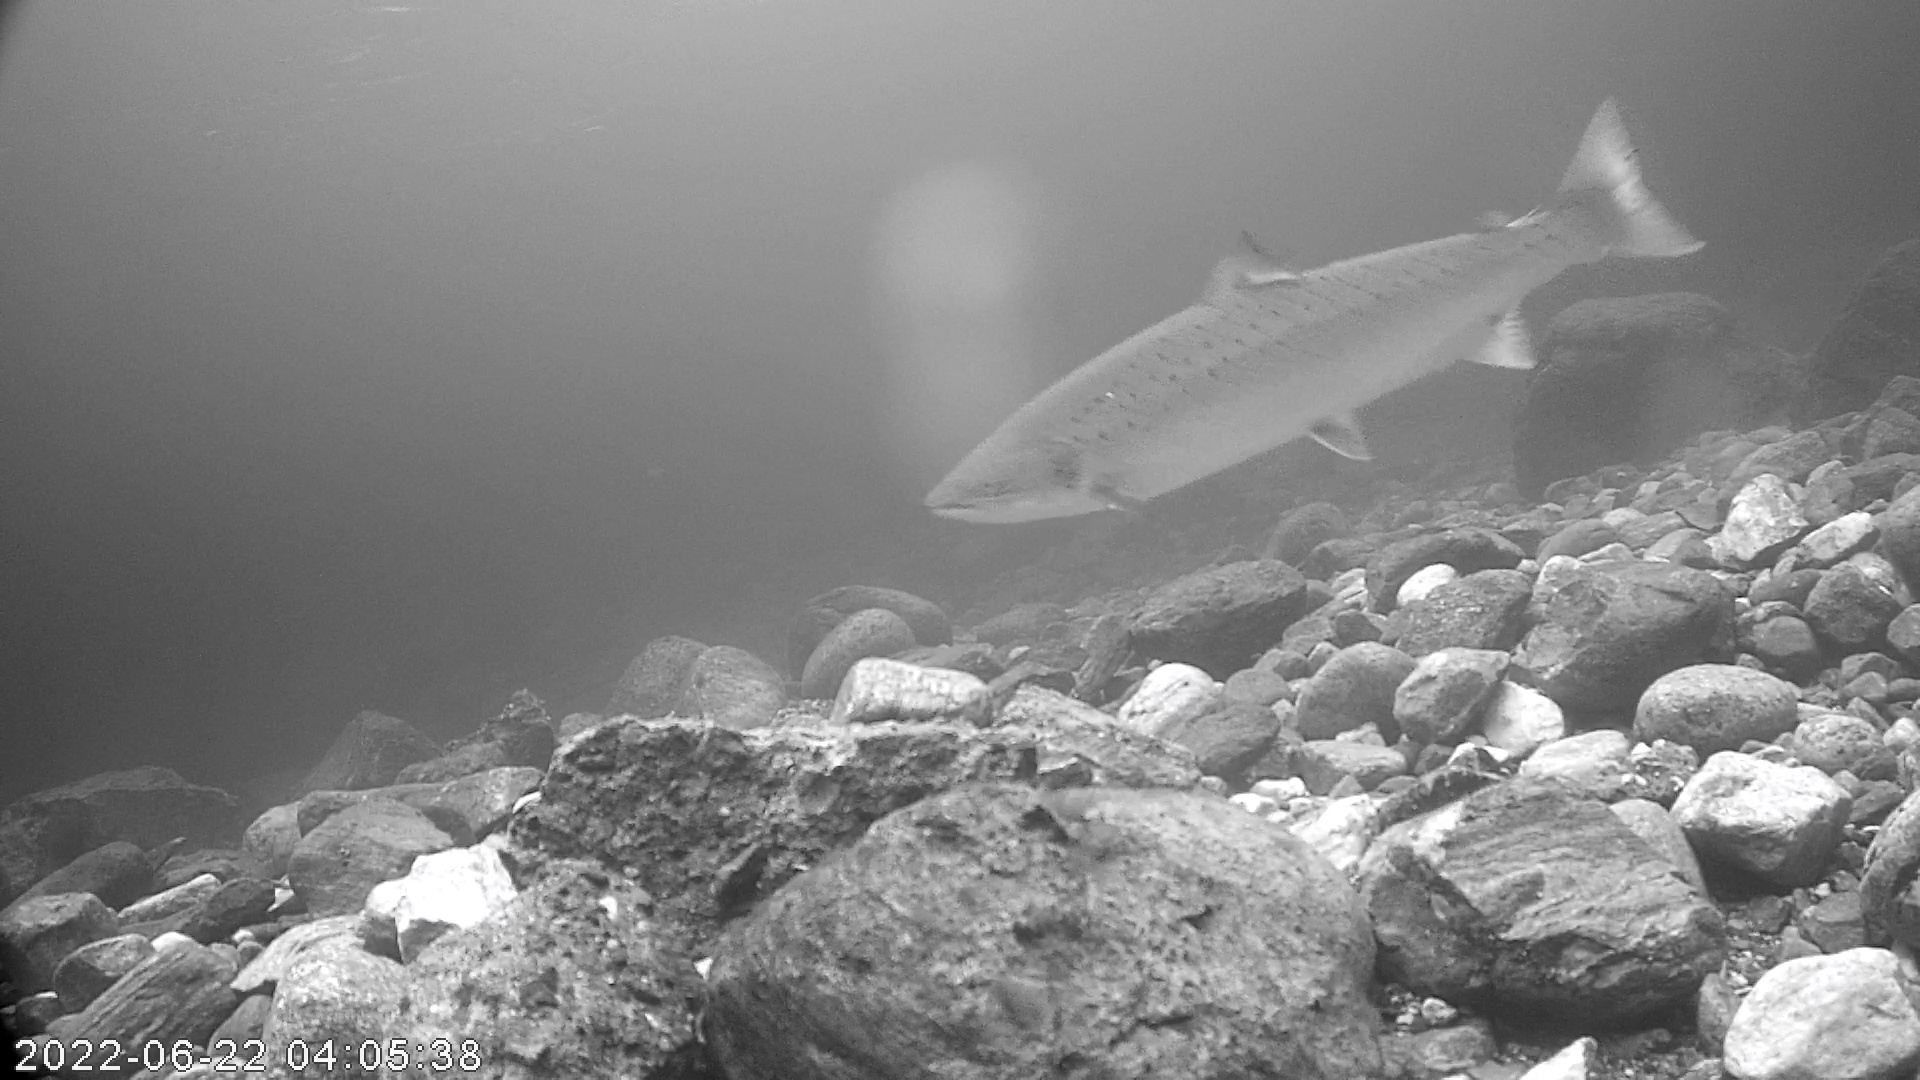salmon: (920, 95, 1702, 531)
